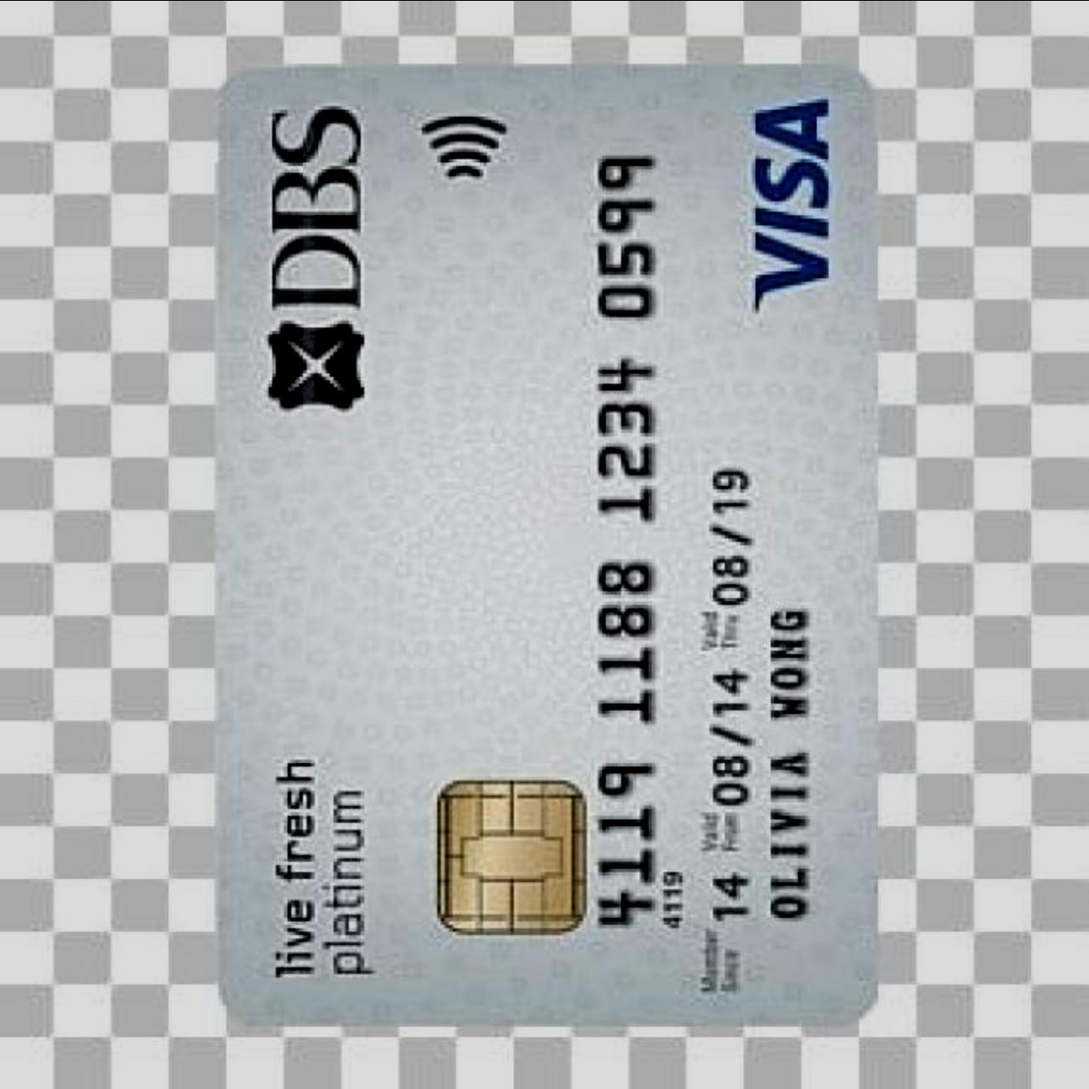credit_card: (211, 65, 871, 1021)
